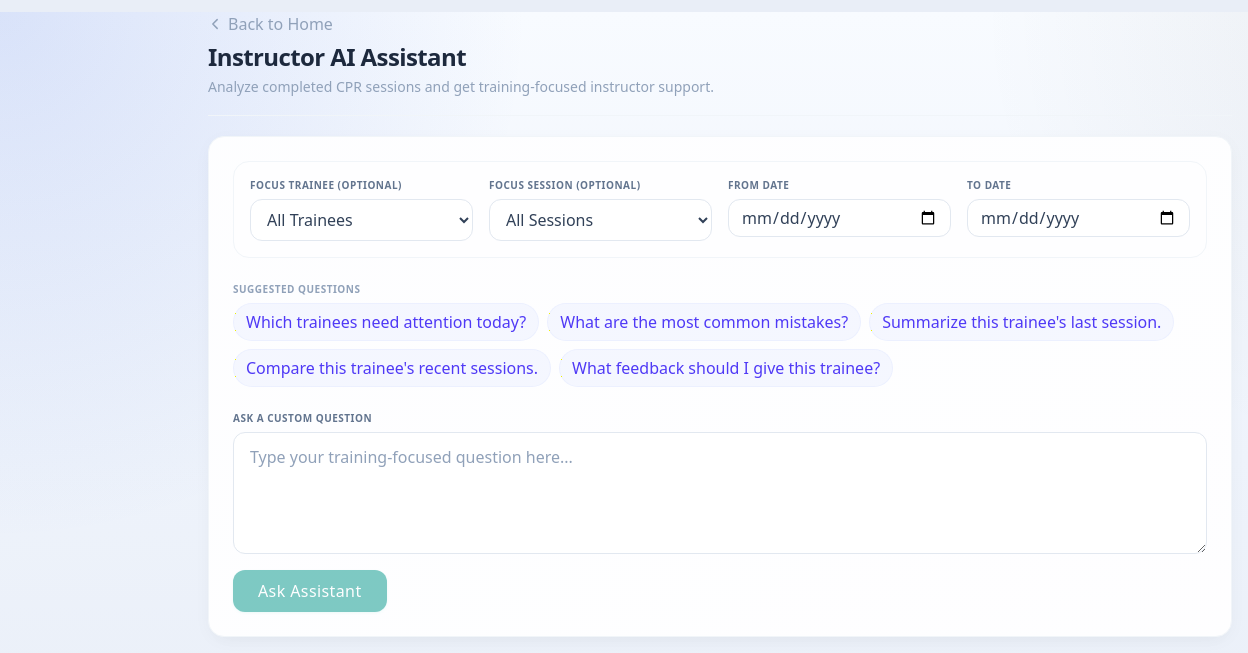
Test: InstructorAiAssistantPage › fills the question input when suggested question pill is clicked
Expected: the heading "Instructor AI Assistant" is shown, [208,40,466,73]
Click the button "Which trainees need attention today?". click: (386,322)
box: [233,303,539,341]
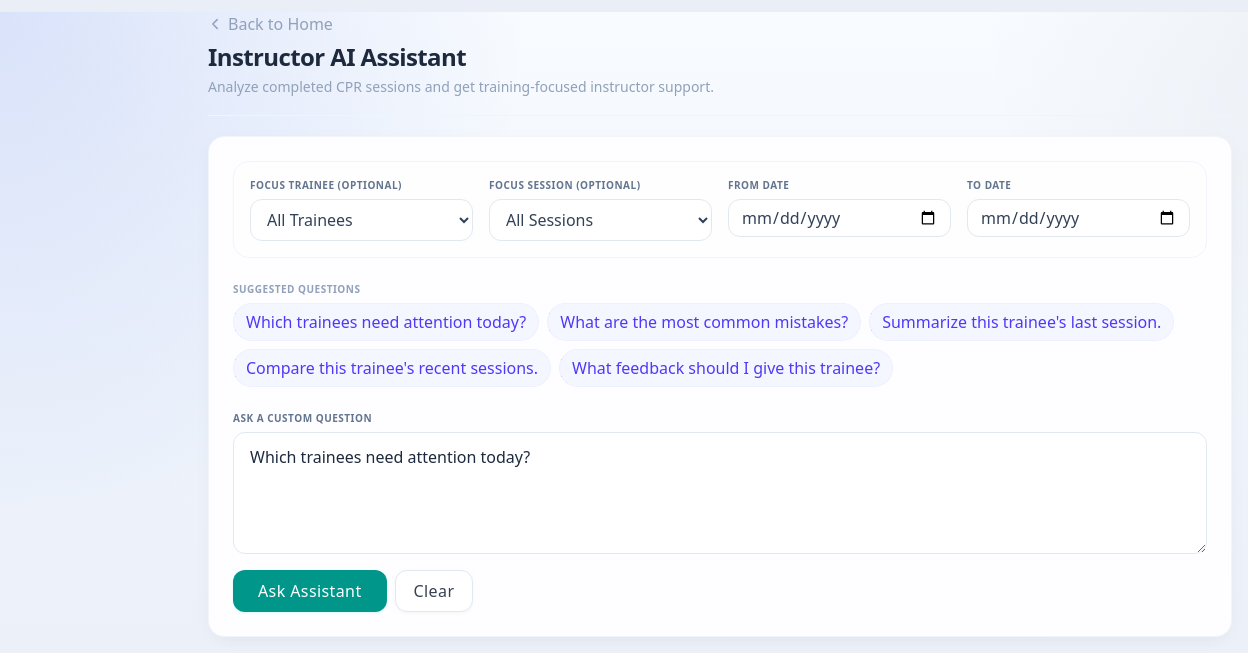
Expected: the text box with placeholder "Type your training-focused question here..." holds "Which trainees need attention today?", [233,432,1207,554]
